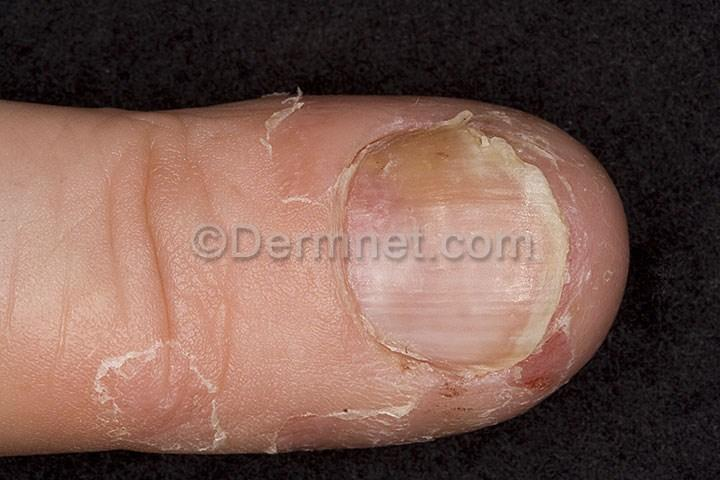Eczema: (101, 336, 254, 469), (340, 88, 549, 165), (466, 335, 604, 416)
